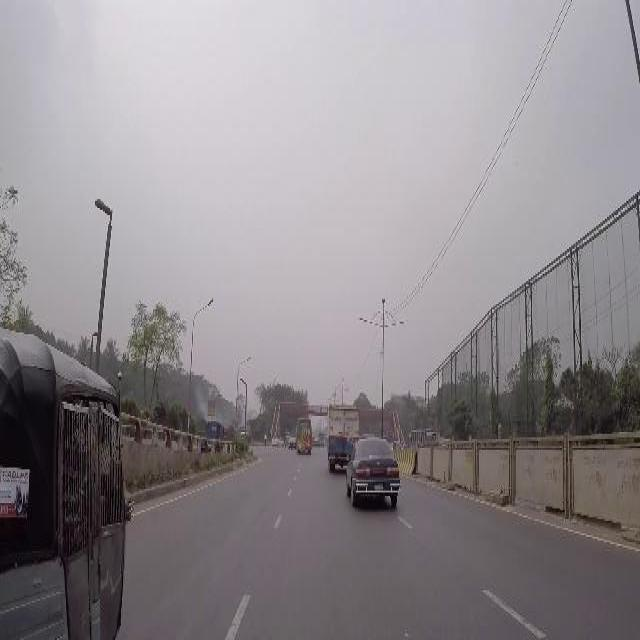bus: (296, 416, 312, 453), (410, 426, 439, 444)
car: (344, 432, 401, 505), (271, 434, 283, 446)
motorcycle: (0, 318, 125, 633)
truck: (325, 400, 360, 469), (318, 430, 324, 446)
